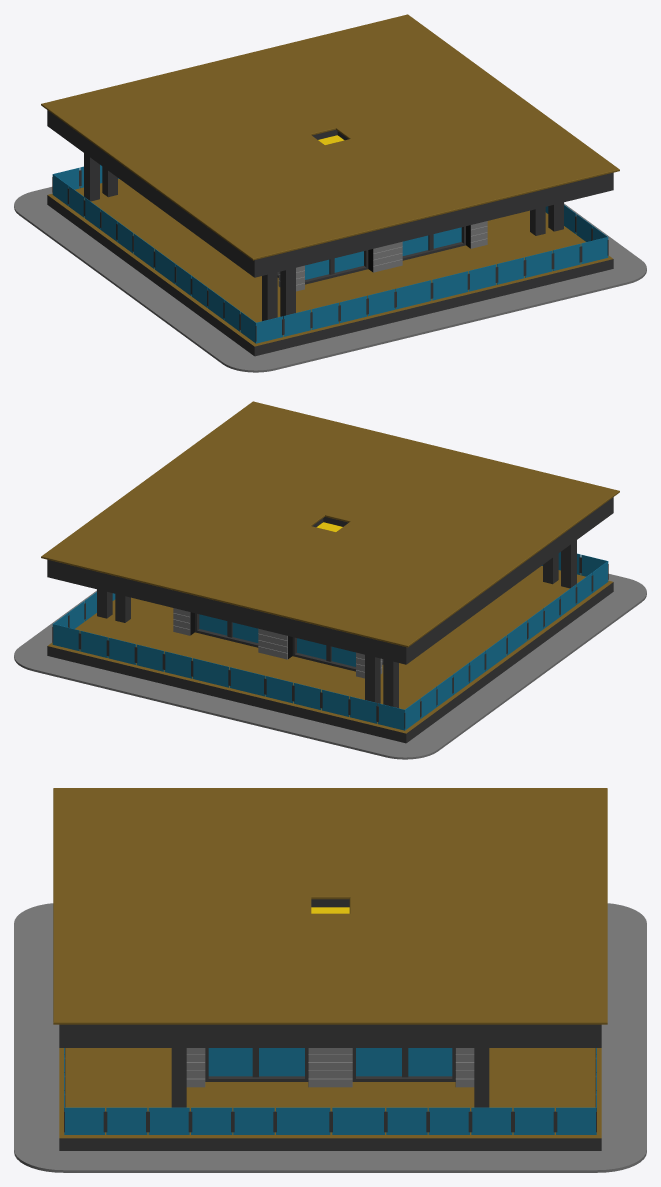
The model's file is SM_MK11_Roof_001.fbx.
The picture shows the model from 3 angles, top to bottom: view 1: azimuth 30°, elevation 25°; view 2: azimuth 150°, elevation 25°; view 3: azimuth 270°, elevation 25°; orthographic projection. The views are drawn at different scales.
Visible parts, largest first — view 1: SM_MK11_Roof_001; view 2: SM_MK11_Roof_001; view 3: SM_MK11_Roof_001.
Boxes of the visible parts, left/top/right/bottom form: SM_MK11_Roof_001: left=14, top=14, right=646, bottom=372; SM_MK11_Roof_001: left=14, top=401, right=646, bottom=759; SM_MK11_Roof_001: left=14, top=788, right=646, bottom=1172.
Bounding box in the file's own units: 2100 × 490 × 2100.
